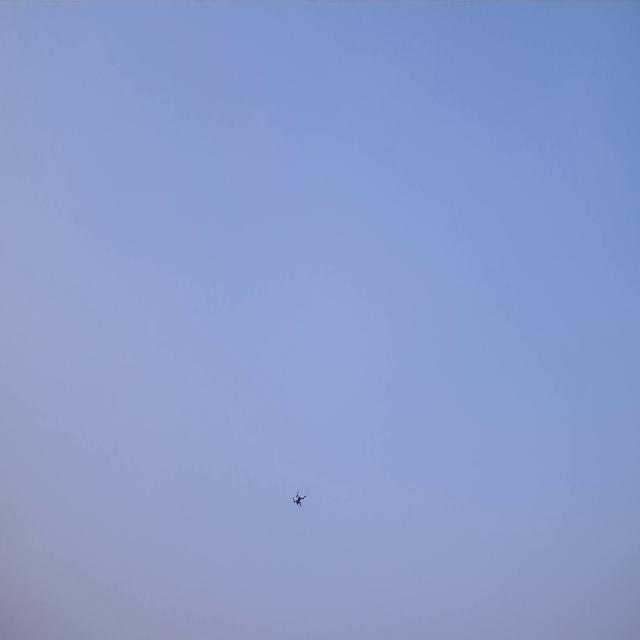UAV: (291, 489, 307, 508)
